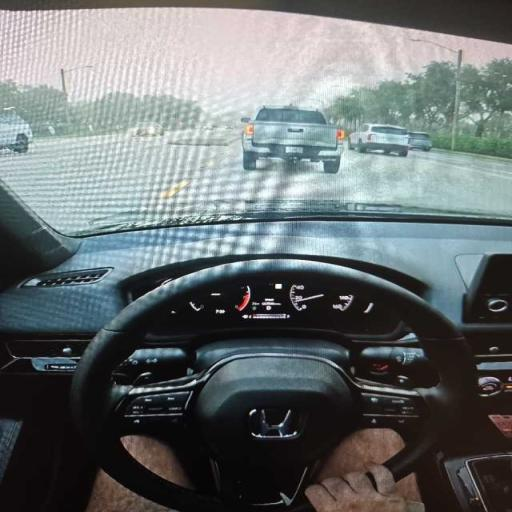car: (0, 0, 511, 511), (349, 124, 409, 156), (0, 113, 32, 153), (128, 122, 164, 136), (408, 132, 432, 151), (202, 125, 216, 130), (222, 126, 234, 129)
lane: (0, 136, 511, 232)
person: (306, 430, 423, 511)
truck: (241, 106, 343, 173)
